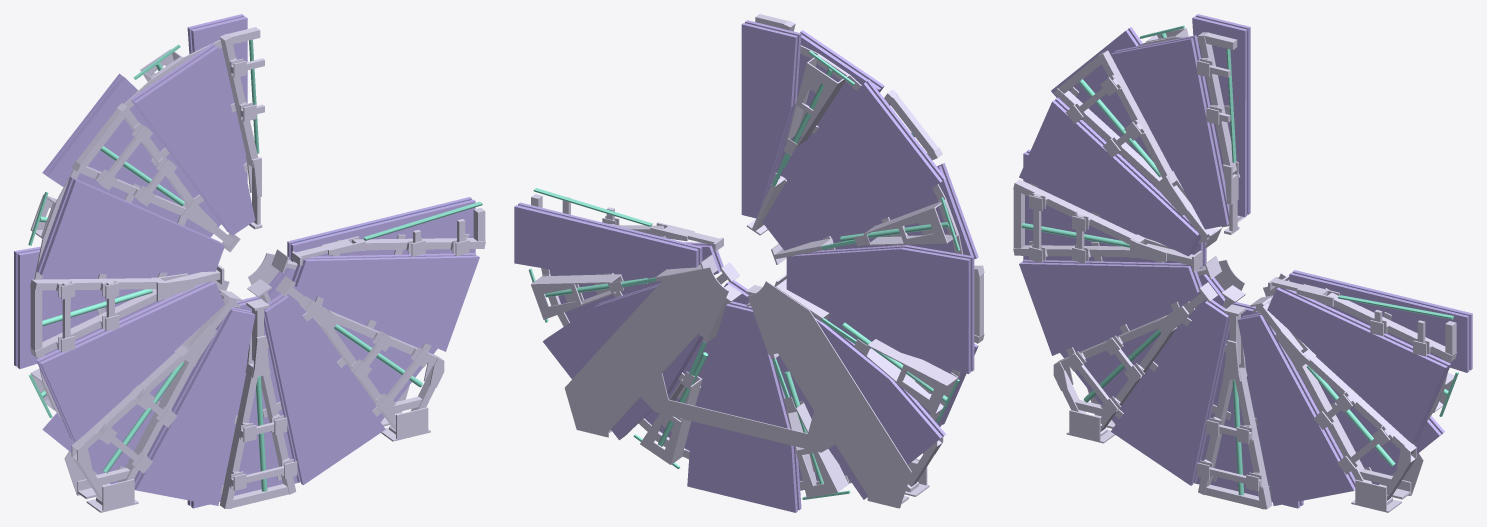
File: Small-Wheel-Chambers-SideC-cut3.glb
The picture shows the model from 3 angles, left to right: view 1: azimuth 30°, elevation 25°; view 2: azimuth 150°, elevation 25°; view 3: azimuth 330°, elevation 25°; orthographic projection. The views are drawn at different scales.
Parts seen in each view (by area): view 1: null; view 2: null; view 3: null.
Part boxes in pixels (left/top/right/bottom): null: left=14, top=14, right=485, bottom=512; null: left=514, top=14, right=984, bottom=512; null: left=1013, top=14, right=1472, bottom=512.
Bounding box in the file's own units: 9.29 × 9.29 × 0.9681.
